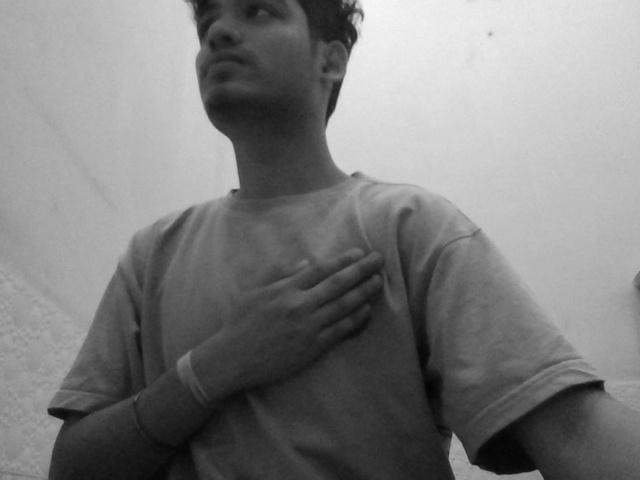Sorry: (181, 238, 453, 424)
